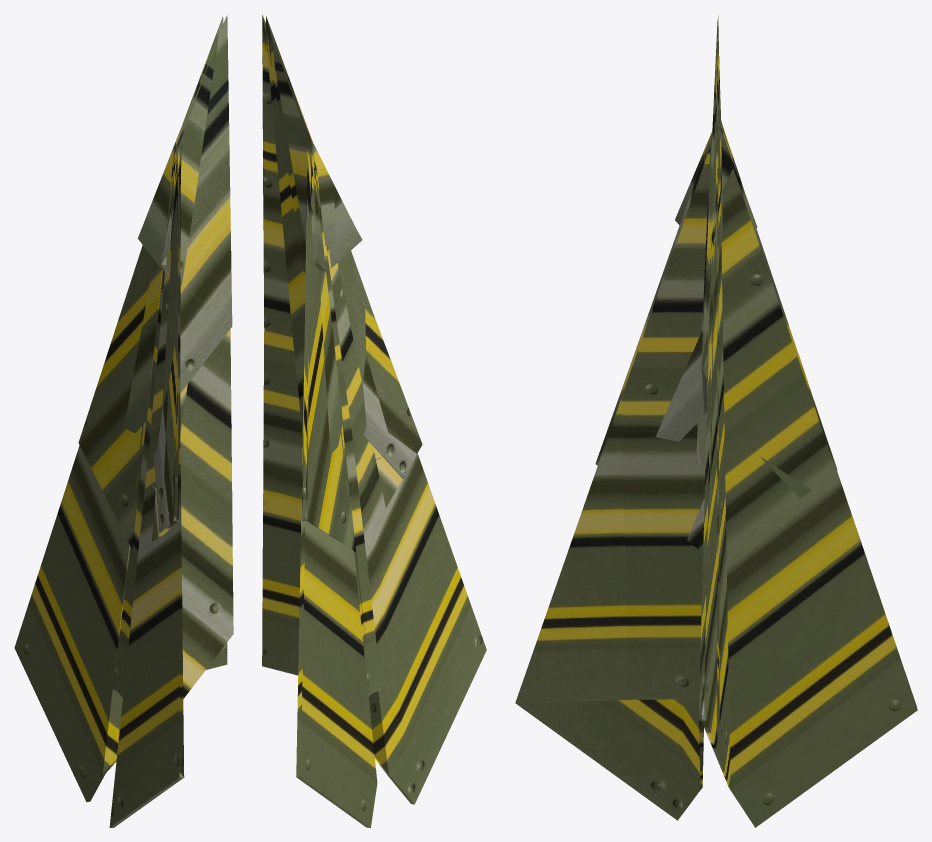
The picture shows the model from 3 angles, left to right: view 1: azimuth 30°, elevation 25°; view 2: azimuth 150°, elevation 25°; view 3: azimuth 270°, elevation 25°; orthographic projection. The views are drawn at different scales.
Parts seen in each view (by area): view 1: Origami_Model_66.001; view 2: Origami_Model_66.001; view 3: Origami_Model_66.001.
Part boxes in pixels (x1,y1,x2,y2): Origami_Model_66.001: (14, 15, 233, 827); Origami_Model_66.001: (262, 15, 486, 827); Origami_Model_66.001: (515, 15, 917, 827).
Size of the model in its own units: 0.0328 by 0.1776 by 0.0737.
Materials: 1 (1 with a texture image).
